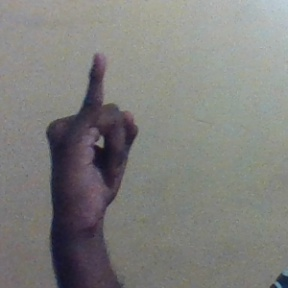I: (44, 51, 138, 221)
